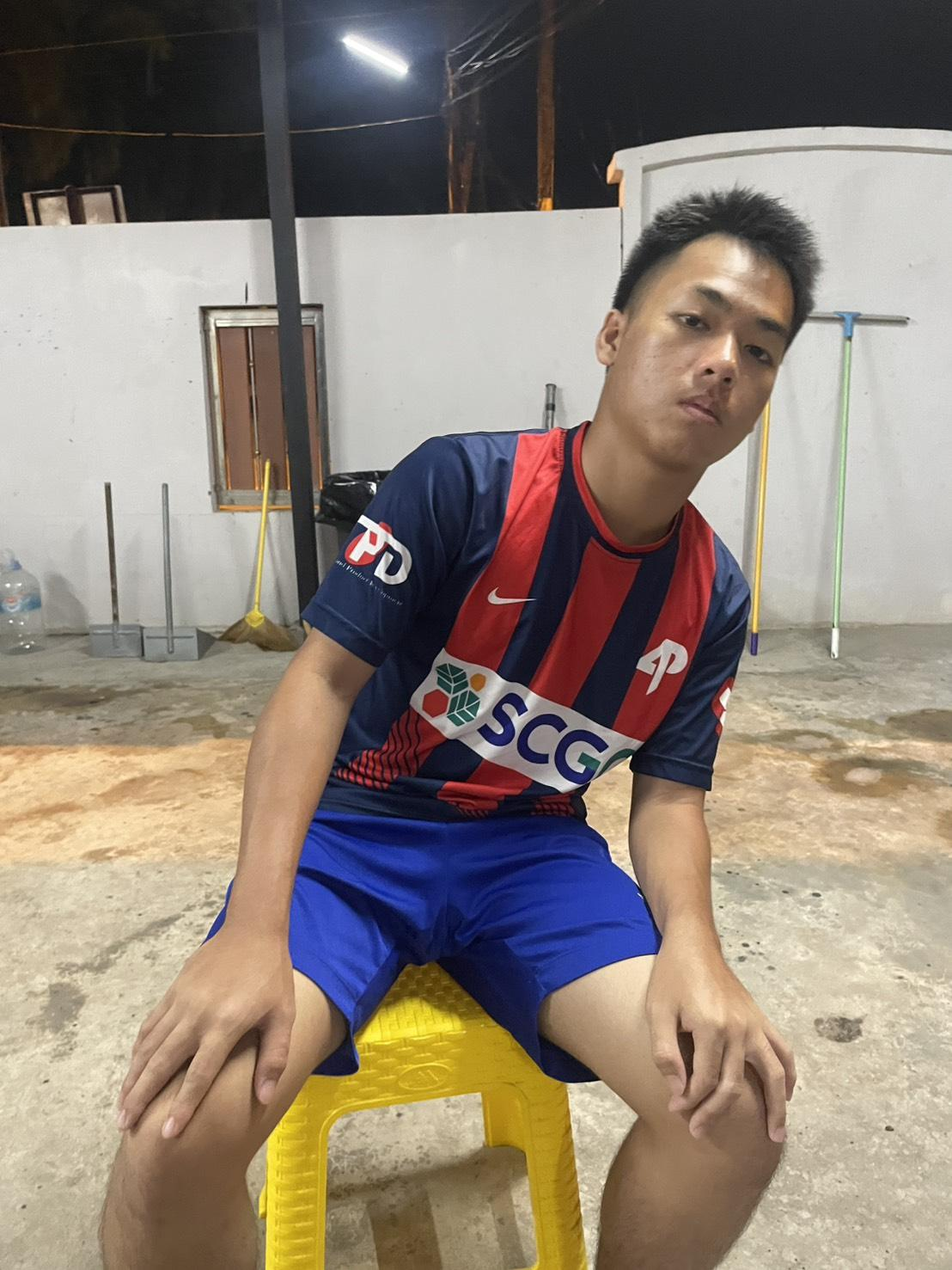BadPosture: (245, 188, 819, 987)
